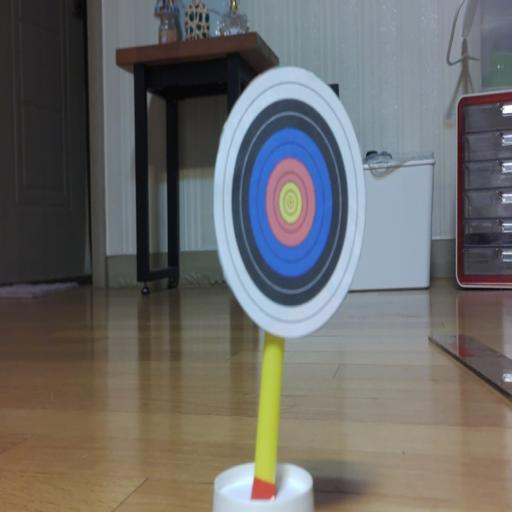target: (214, 68, 365, 338)
